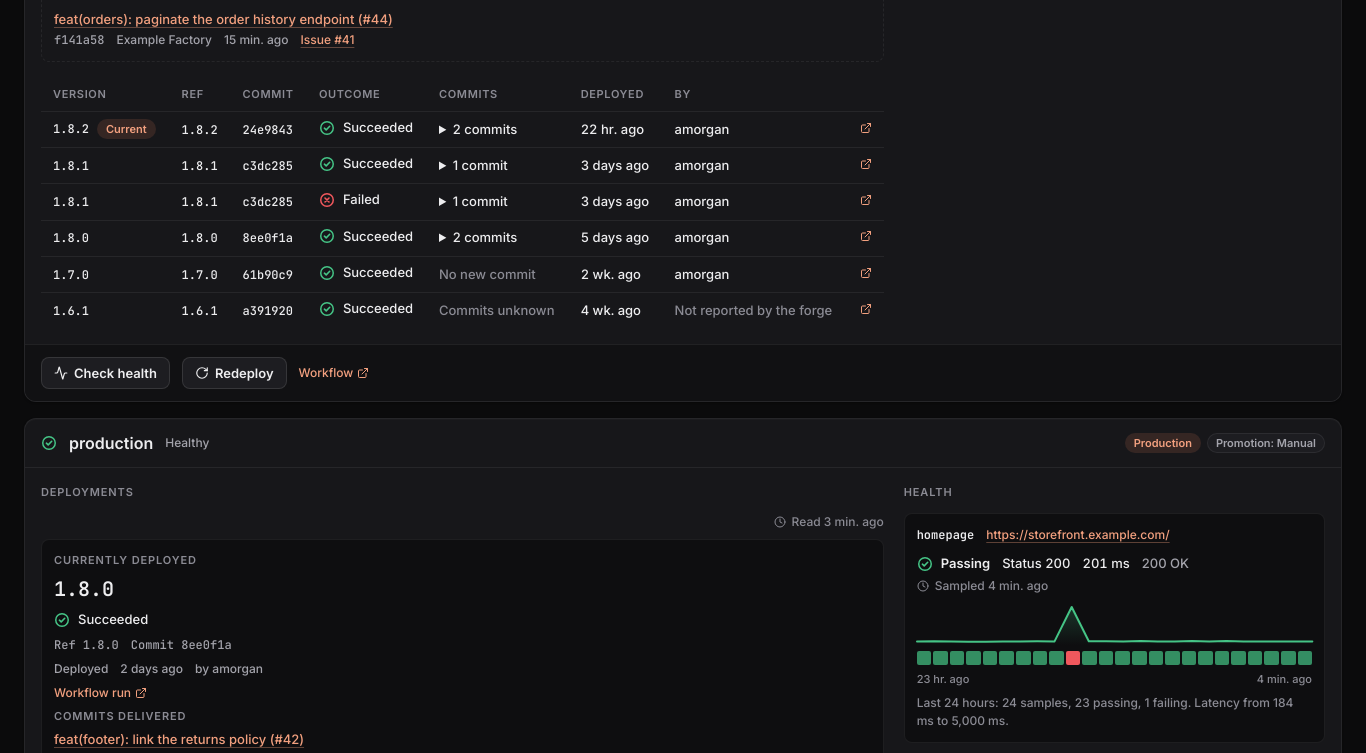
it: deployment.redeploy: the confirmation › names the environment and the deployed version, and sends nothing yet
This screenshot has width=1366, height=753.
(page scrolled)
Click the button with aria-label "Redeploy staging". click: (234, 373)
box: [182,357,286,389]
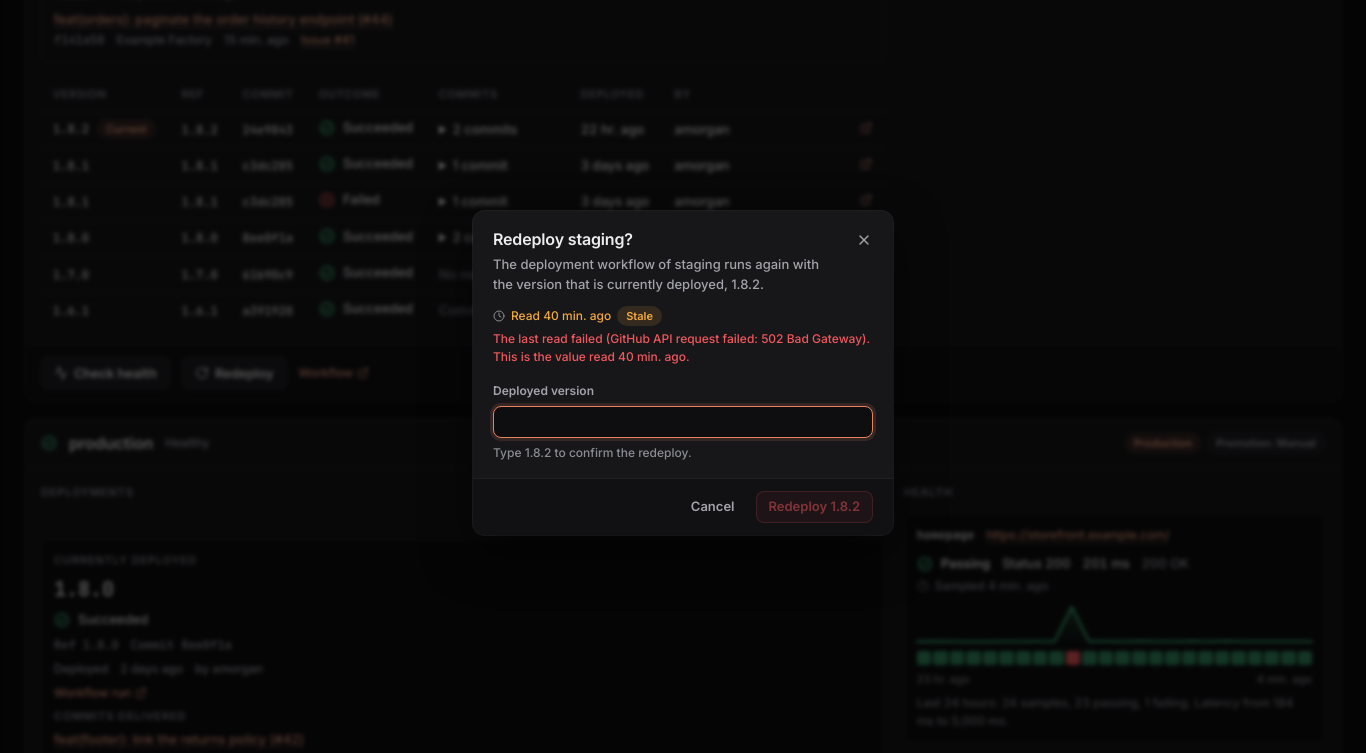
Expected: the dialog "Redeploy staging?" shows "The deployment workflow of staging runs again with the version that is currently deployed, 1.8.2.", [493,256,819,292]
